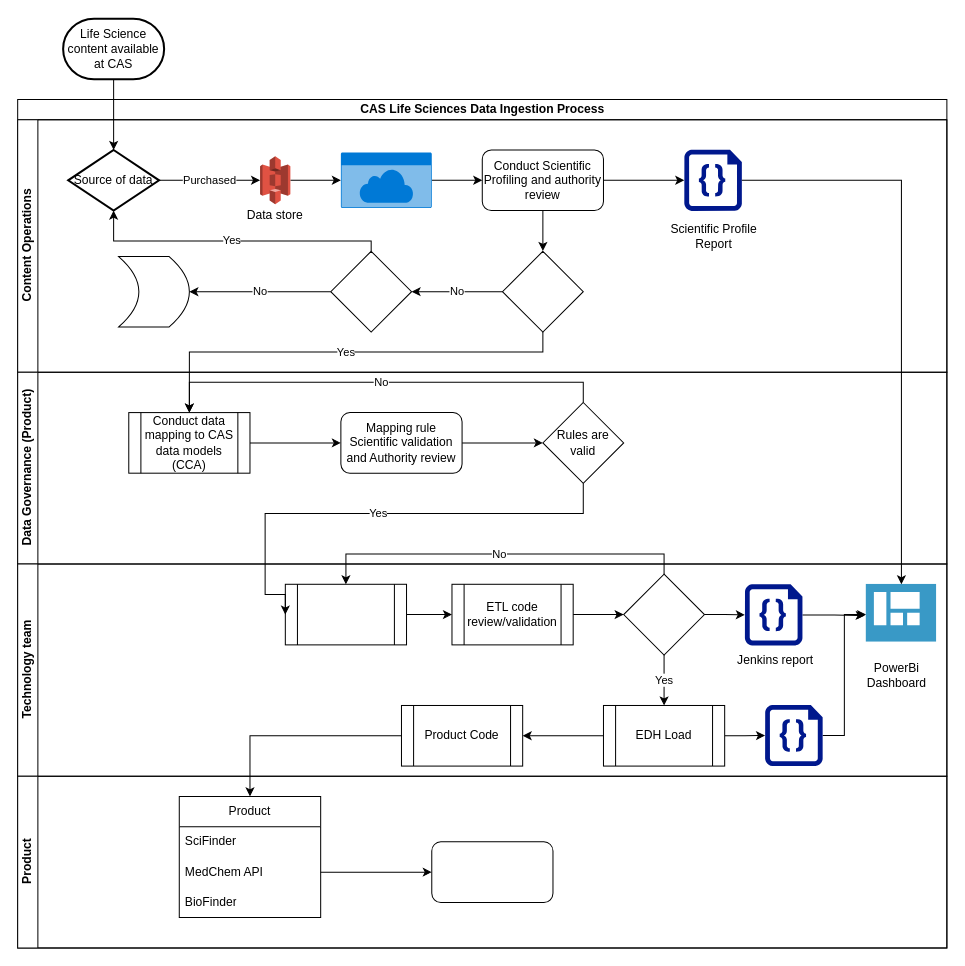
This 965x966 diagram has some shape labels left out. The centre of each missing label's shape, as x and y in pixels:
"Archive" belongs at pixel 153 291.
"Can be improved?" belongs at pixel 371 291.
"CloudPipeline" belongs at pixel 385 180.
"Data is scientifically valid" belongs at pixel 542 291.
"ETL Code" belongs at pixel 345 614.
"ETL code is valid" belongs at pixel 663 614.
"Scientific QC" belongs at pixel 492 871.
